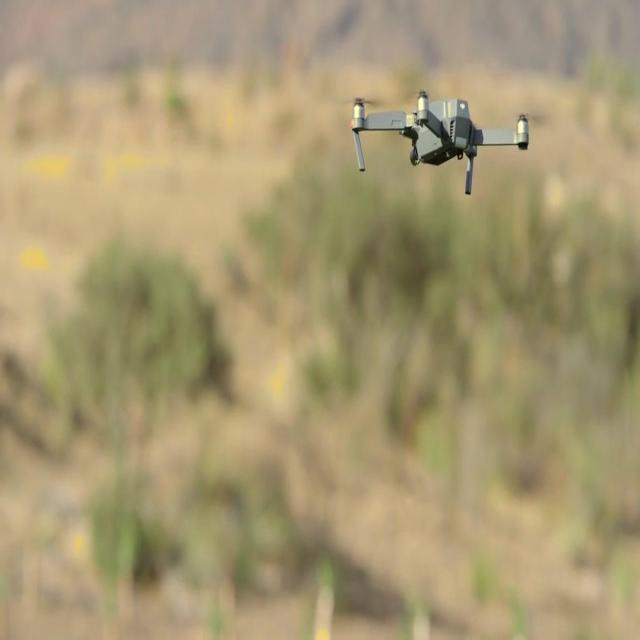UAV: (350, 89, 541, 195)
